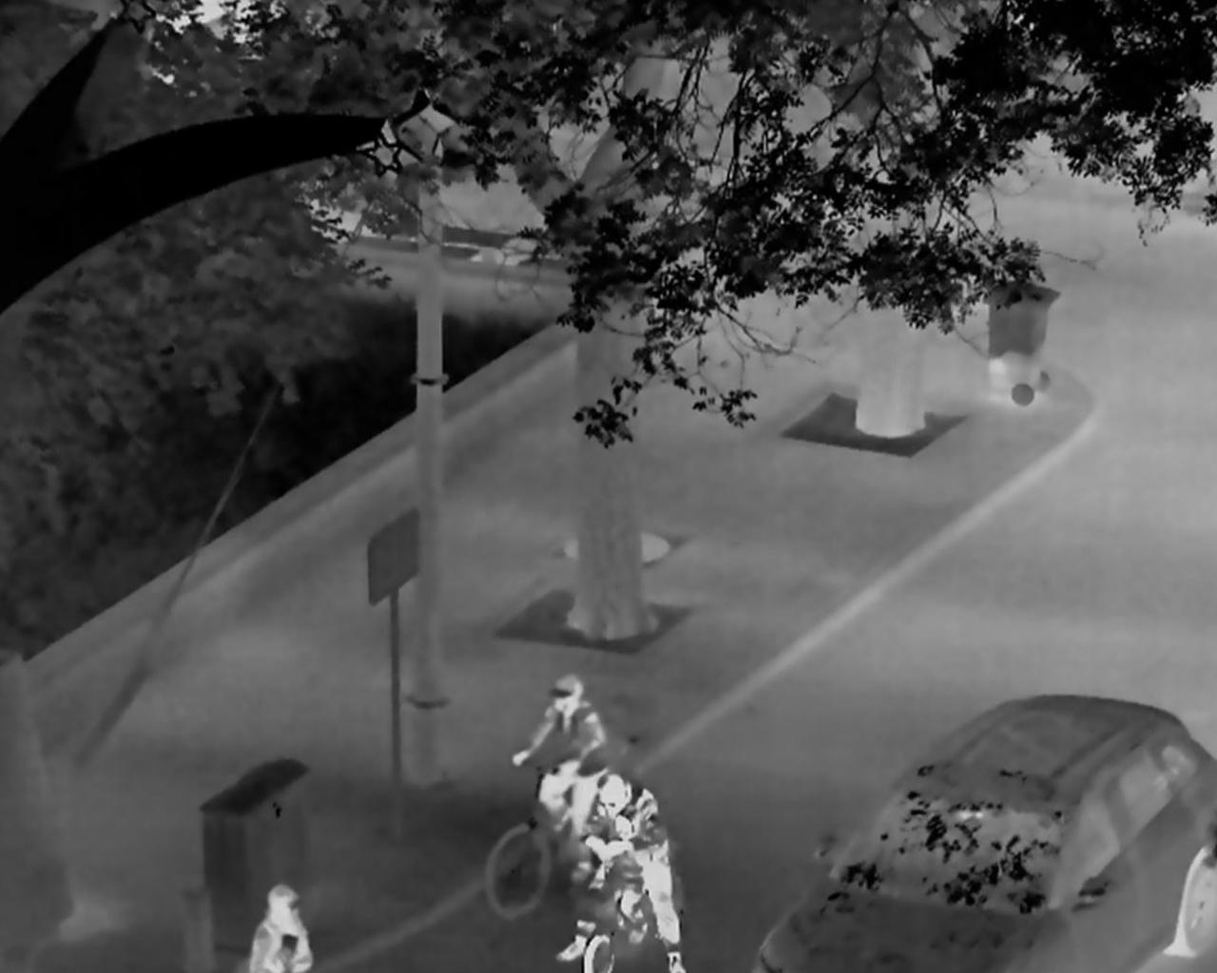person: (556, 773, 688, 973), (510, 672, 609, 885), (605, 807, 654, 943), (247, 882, 315, 973)
